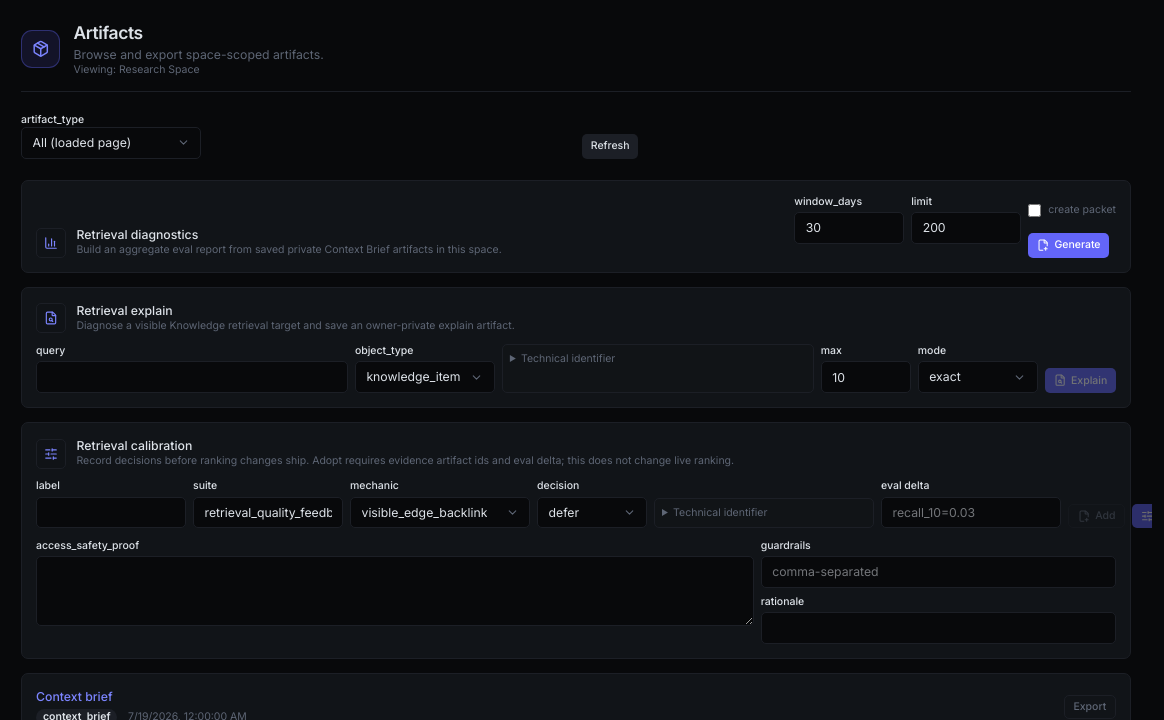
ArtifactsPage › refreshes a downgraded row to readable summary metadata with export disabled
Click the button "Export": {"x": 1090, "y": 707} [1064,694,1116,719]
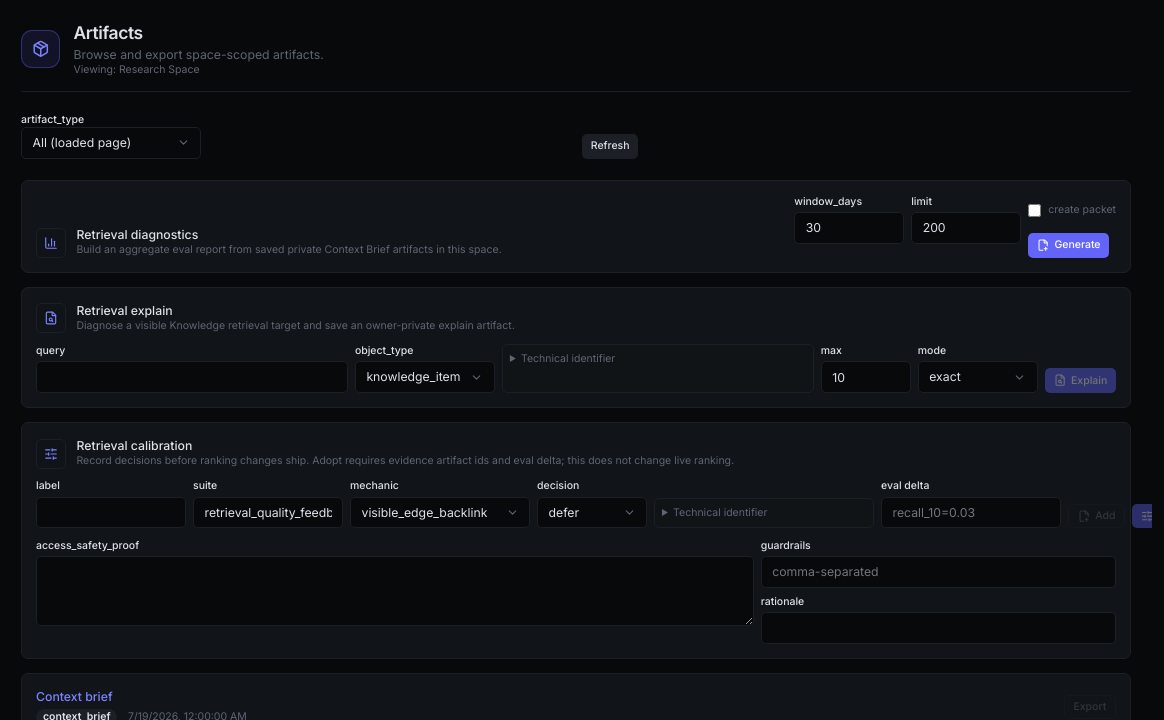
Expected: the link "Context brief" is shown, [36,688,113,704]
Result: the button "Export" is disabled at [1064,694,1116,719]
